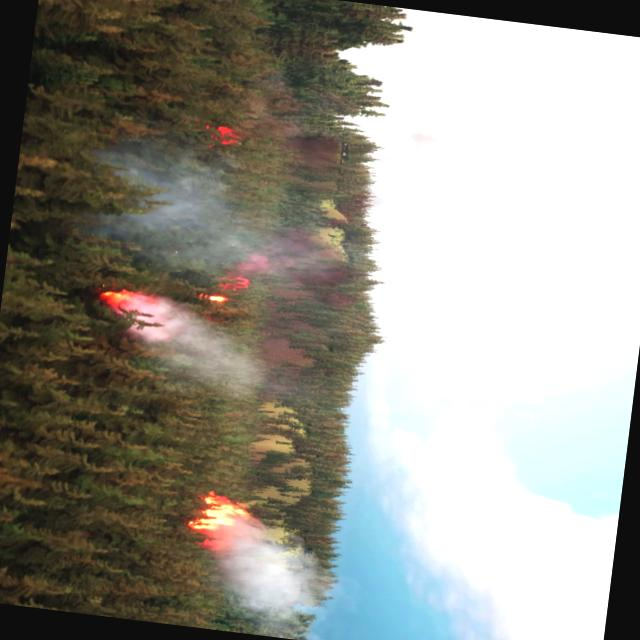fire: (182, 487, 252, 547), (202, 248, 265, 310), (95, 288, 153, 324), (208, 128, 246, 152)
smoke: (73, 138, 453, 324), (275, 107, 519, 198), (113, 299, 277, 407), (192, 514, 333, 626)
